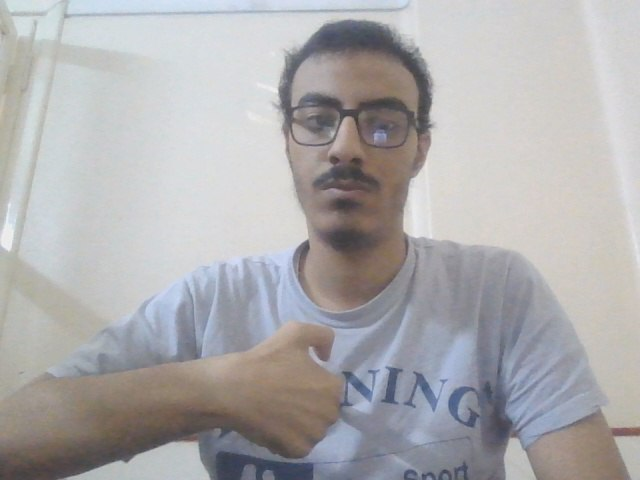Me: (209, 319, 351, 464)
